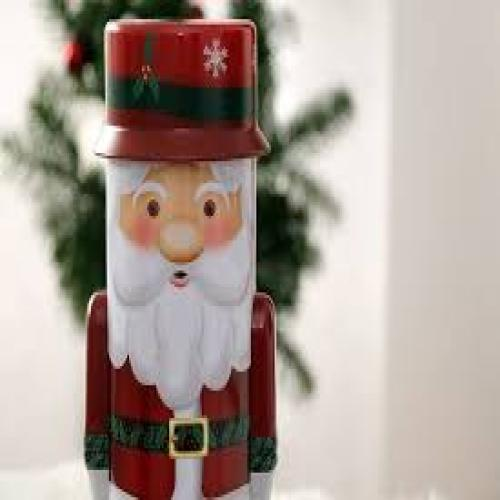Santa: (80, 16, 277, 500)
